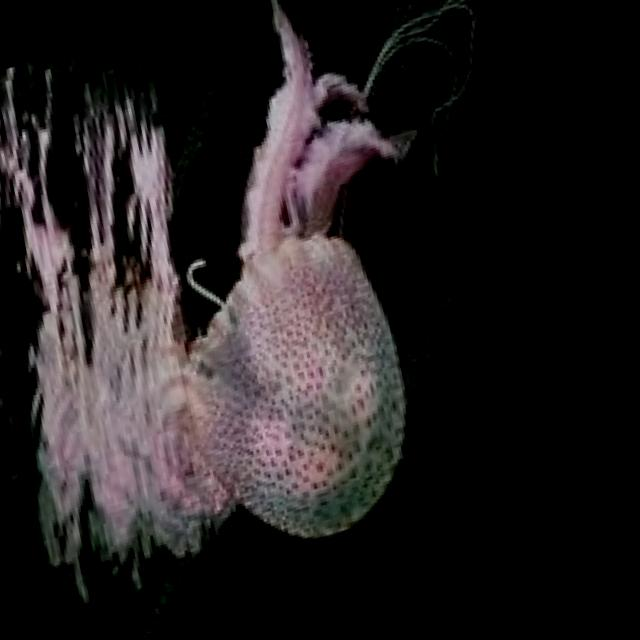Jellyfish: (77, 0, 561, 619)
